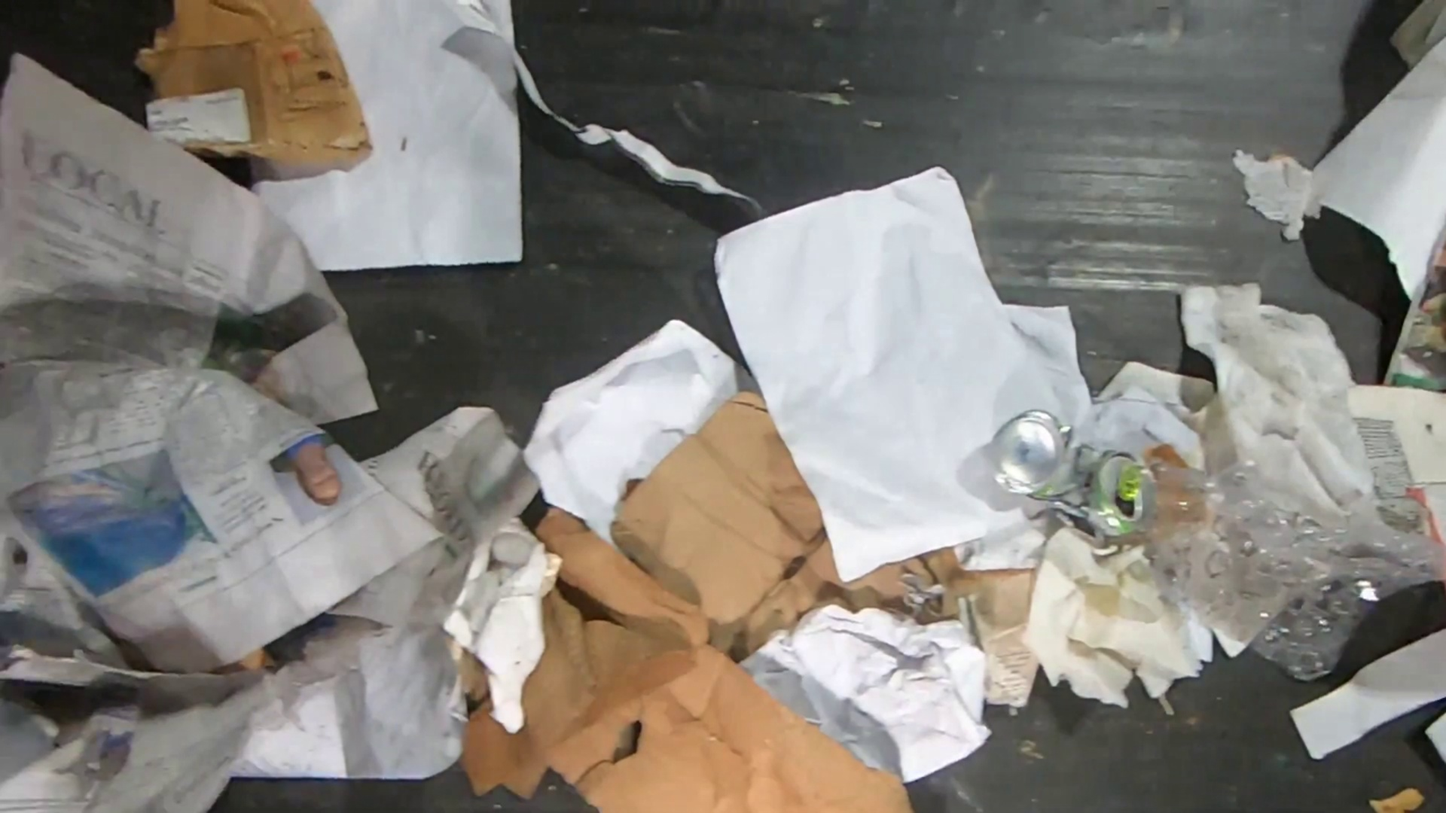cardboard: (610, 388, 1039, 706), (459, 582, 913, 813), (136, 0, 376, 165), (534, 506, 715, 644), (1368, 788, 1424, 813)
metal: (989, 410, 1157, 536)
plastic: (1135, 455, 1446, 680)
